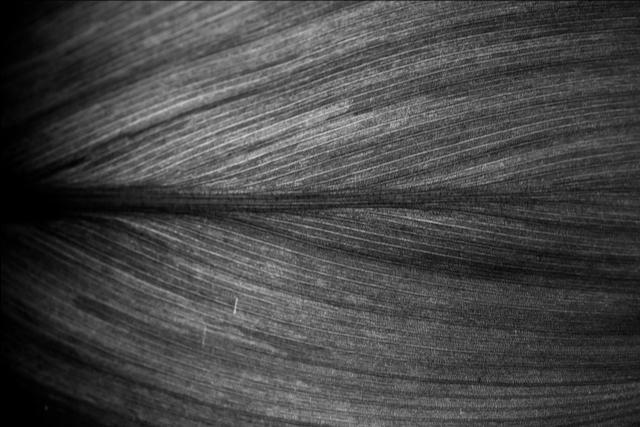Non_Gorille: (106, 56, 581, 362)
